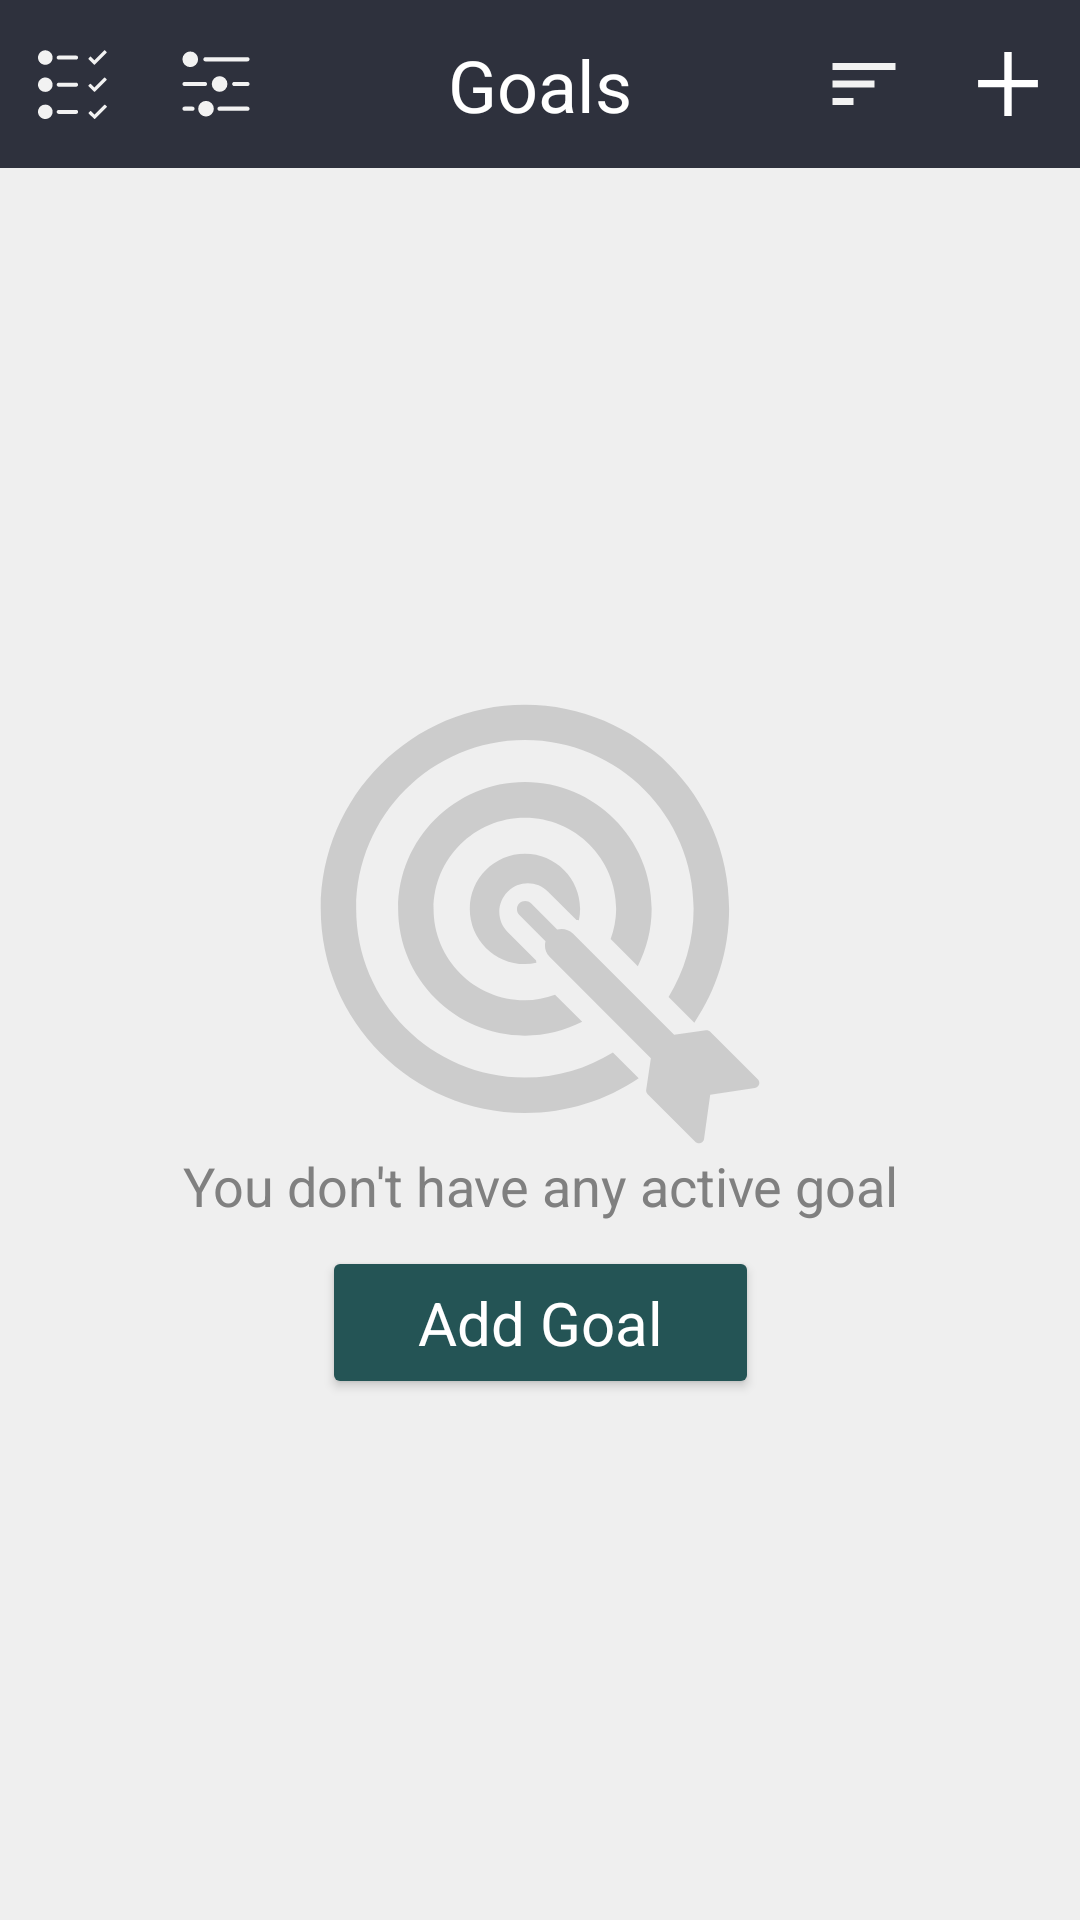

Where to tap for icons on this 1080px×1920px app screen, as [x,y]:
add: [1008,84]
completed goals: [72,84]
settings: [216,84]
sort: [864,84]
